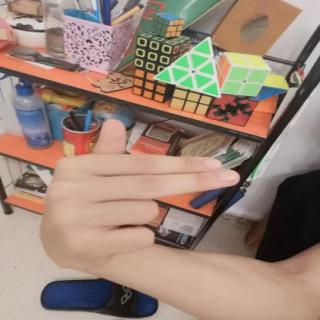GHAYN: (26, 114, 248, 278)
